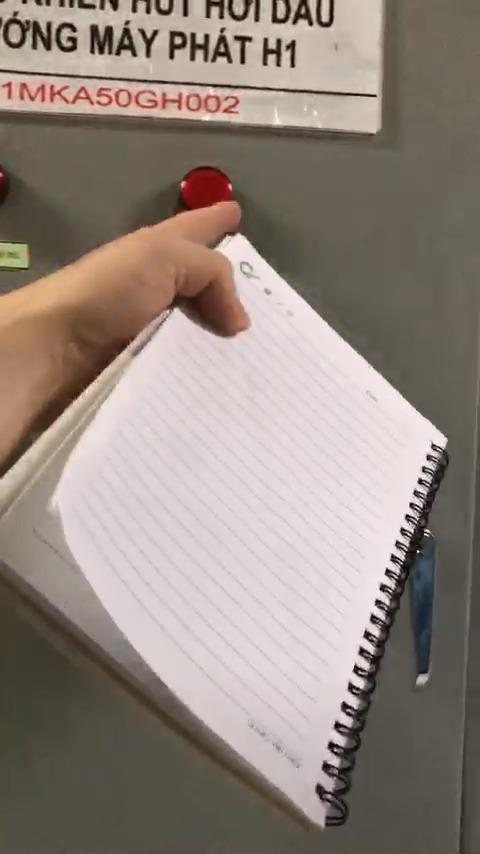led: (177, 161, 238, 219)
